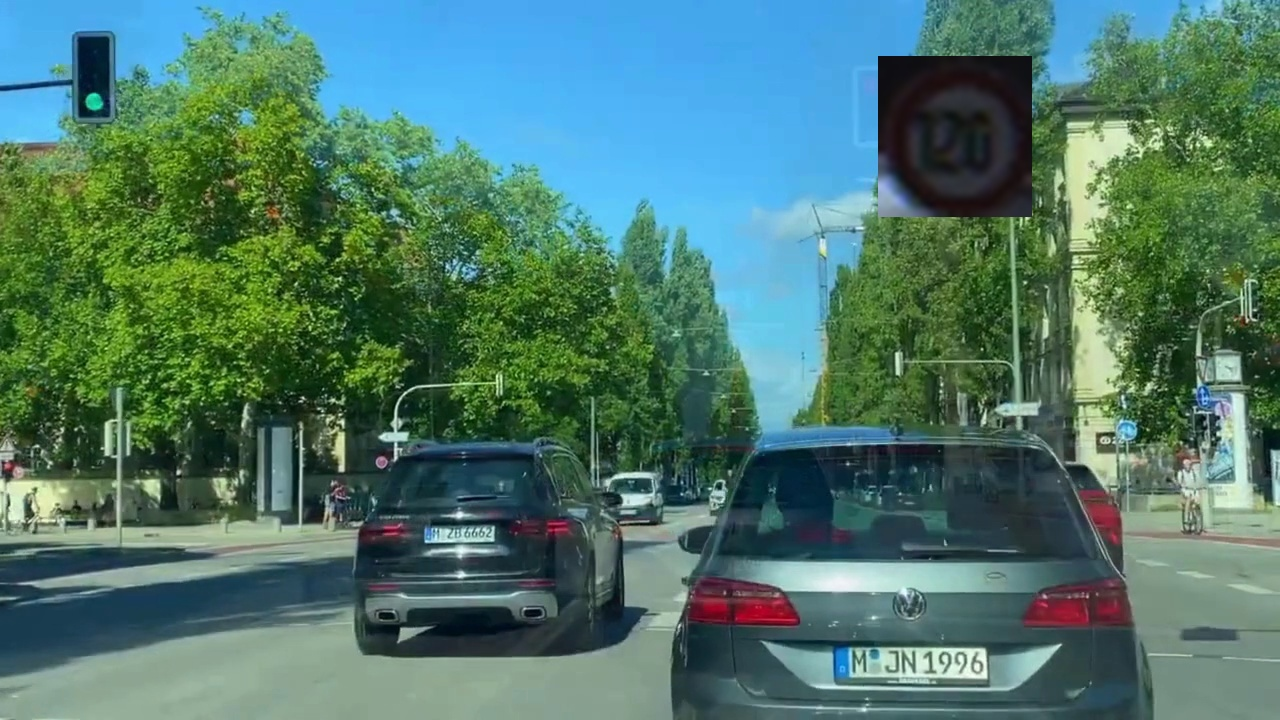Speed 120: (878, 56, 1032, 217)
